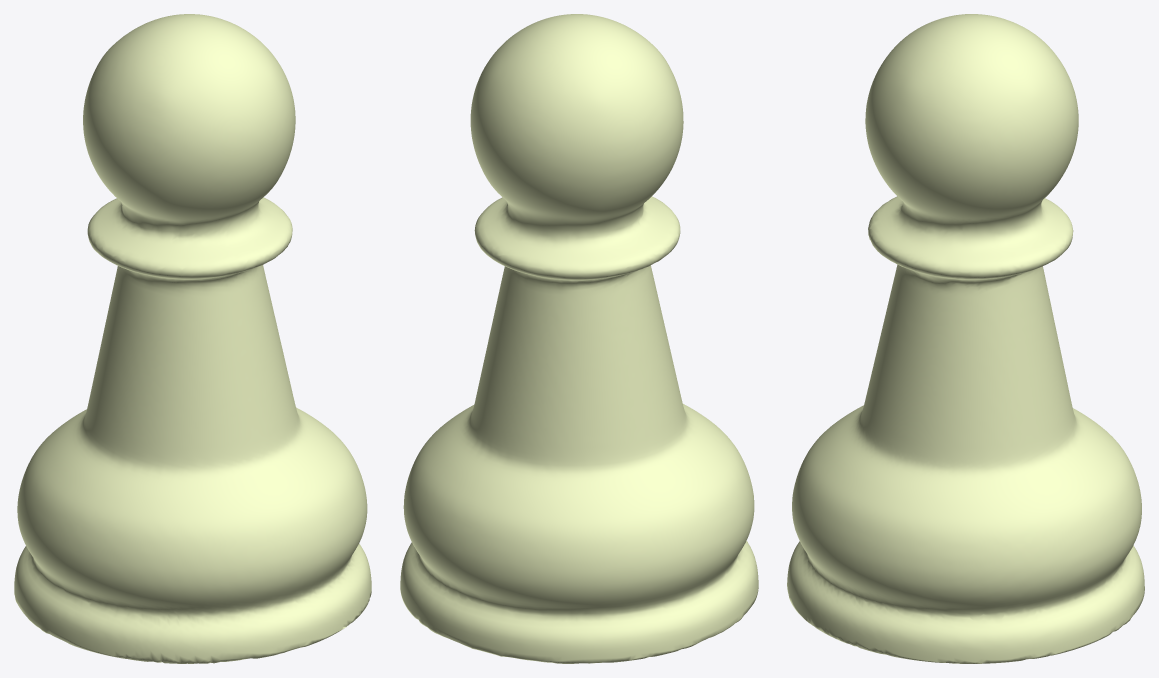
File: Pawn.fbx
3 views of the same model, side by side, from view 1: azimuth 30°, elevation 25°; view 2: azimuth 150°, elevation 25°; view 3: azimuth 270°, elevation 25° (orthographic).
Visible parts, largest first — view 1: Pawn.005; view 2: Pawn.005; view 3: Pawn.005.
Boxes of the visible parts, box(x1,y1,x2,y2) form: Pawn.005: box(14, 14, 371, 663); Pawn.005: box(400, 14, 758, 663); Pawn.005: box(787, 14, 1144, 663).
Size of the model in its own units: 2.85 by 4.99 by 2.85.
